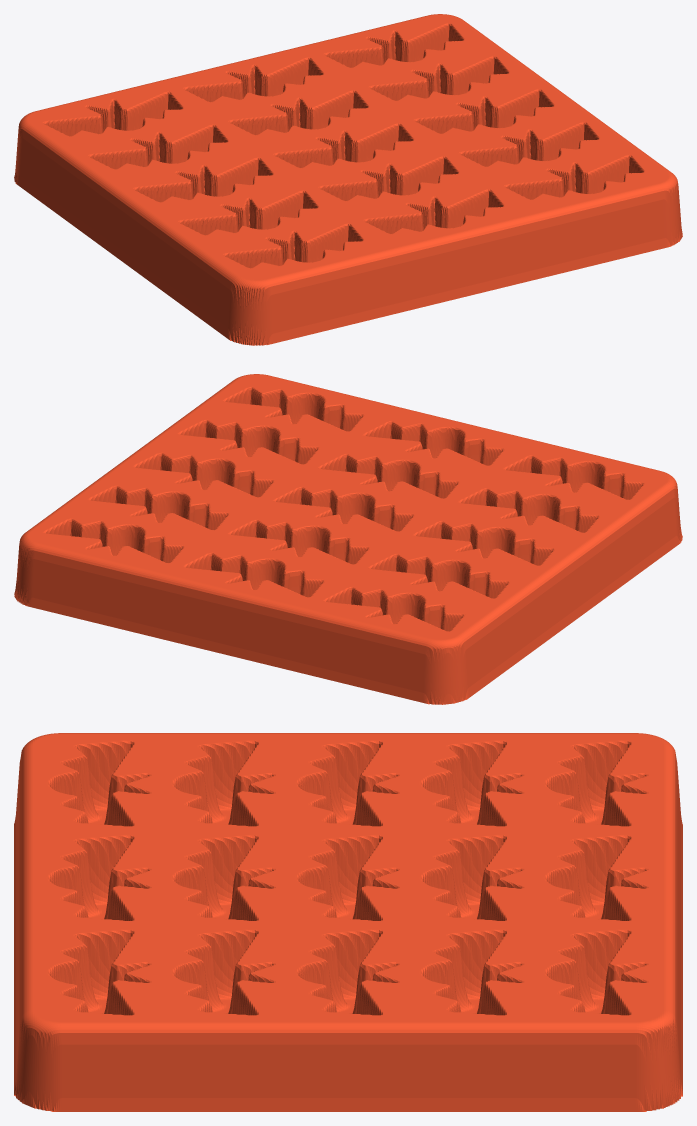
The model's file is mold.glb.
The picture shows the model from 3 angles, top to bottom: view 1: azimuth 30°, elevation 25°; view 2: azimuth 150°, elevation 25°; view 3: azimuth 270°, elevation 25°; orthographic projection. The views are drawn at different scales.
Visible parts, largest first — view 1: geometry_0; view 2: geometry_0; view 3: geometry_0.
Part boxes in pixels (x1,y1,x2,y2): geometry_0: (14,14,682,345); geometry_0: (14,374,682,704); geometry_0: (14,733,682,1111).
Size of the model in its own units: 0.1392 by 0.0175 by 0.1296.
